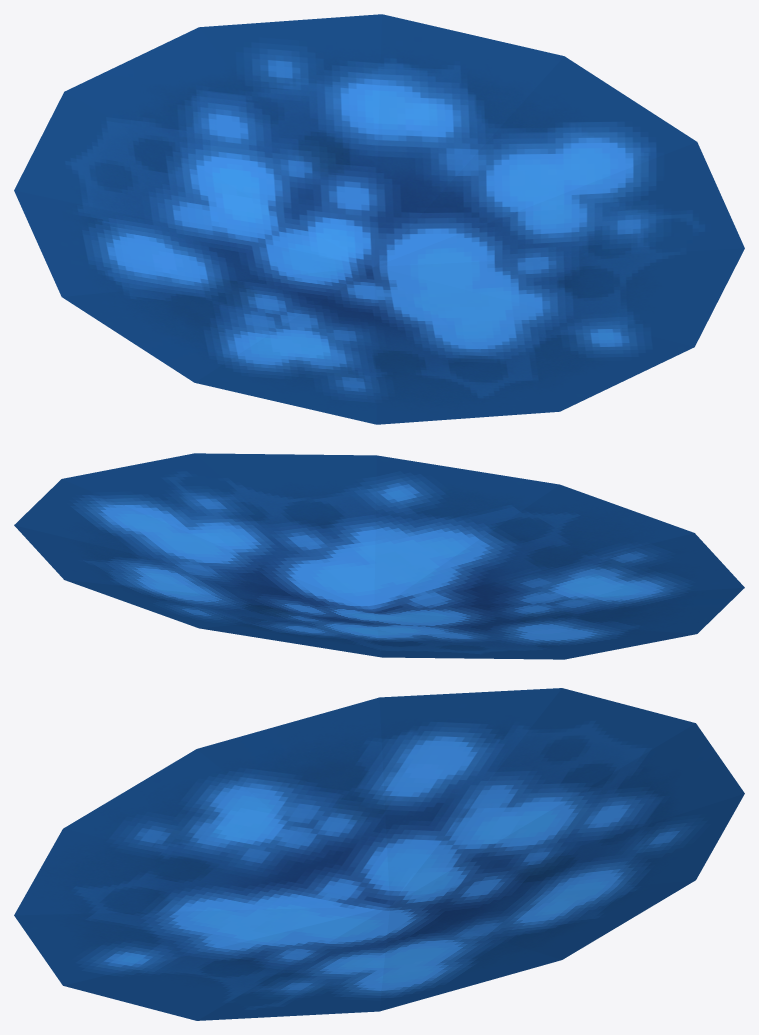
The model's file is concoction.fbx.
3 renders of one model, top to bottom at view 1: azimuth 30°, elevation 25°; view 2: azimuth 150°, elevation 25°; view 3: azimuth 270°, elevation 25°, orthographic.
Parts seen in each view (by area): view 1: concoction; view 2: concoction; view 3: concoction.
Part boxes in pixels (box(x1,y1,x2,y2)): concoction: box(14, 14, 744, 424); concoction: box(14, 453, 744, 659); concoction: box(14, 688, 744, 1020).
Bounding box in the file's own units: 91.28 × 16.51 × 89.77.
1 material, 1 textured.
